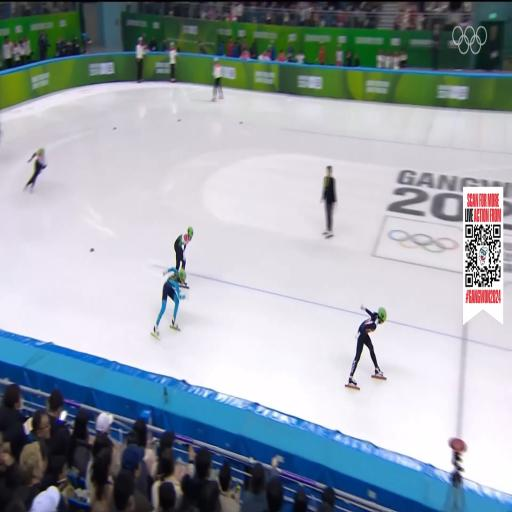Skater: (348, 305, 386, 388), (152, 268, 186, 338), (24, 149, 46, 191), (175, 227, 193, 270)
